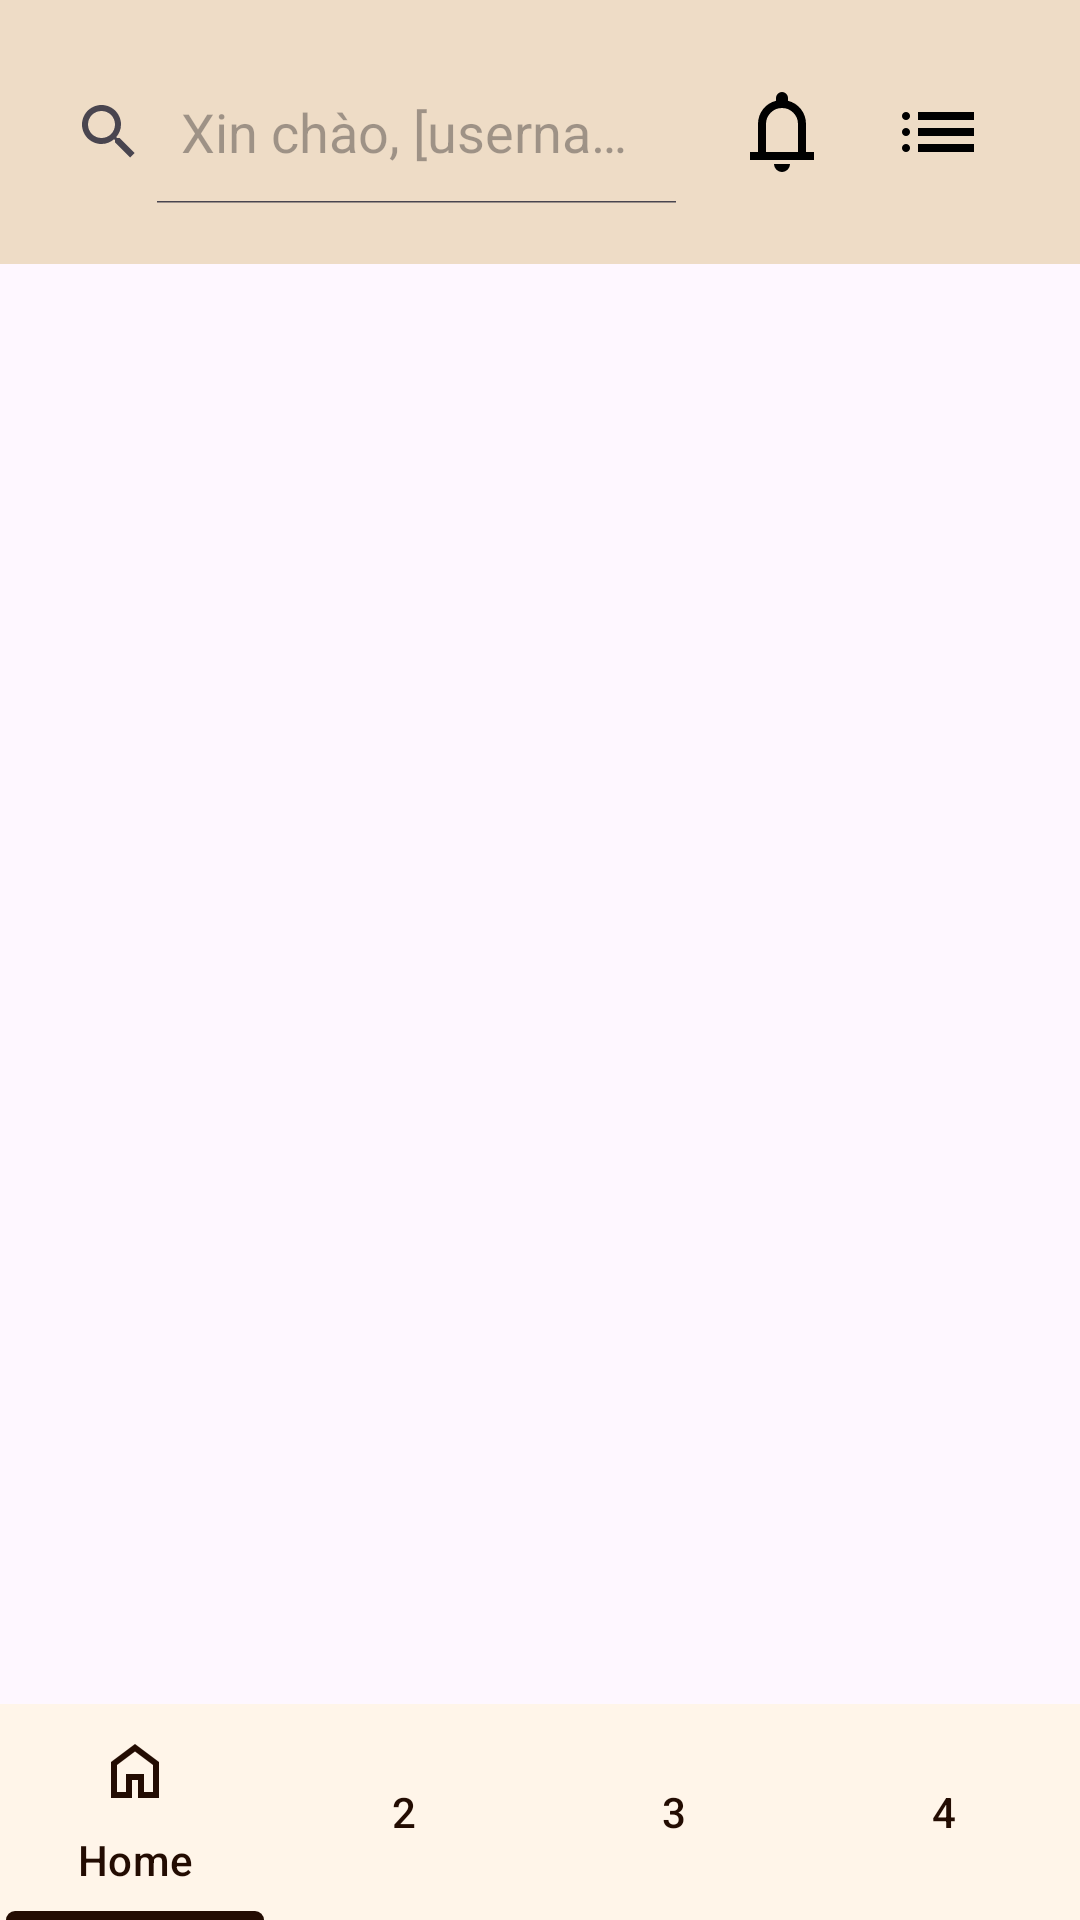

Named icons in this screenshot (1080px×1920px) and their bounding boxes, [x1,y1,x2,y2]:
list: [902,112,974,152]
notifications: [750,92,814,172]
